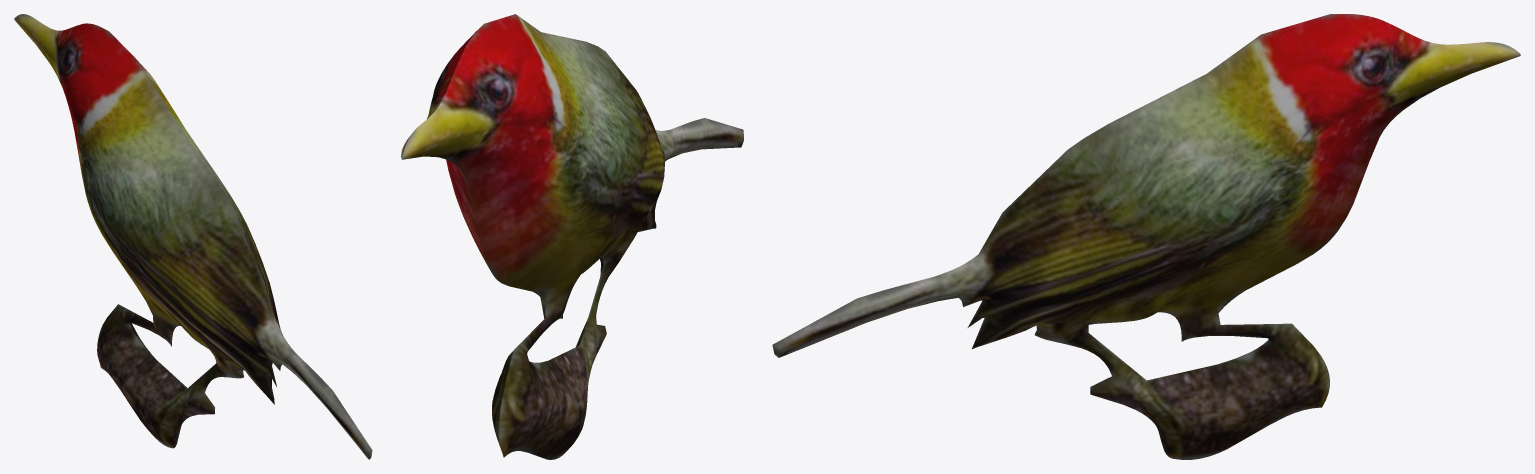
Rendered from cabezon.a.tete.rouge.mast.1g-removebg-preview.gltf.
The picture shows the model from 3 angles, left to right: view 1: azimuth 30°, elevation 25°; view 2: azimuth 150°, elevation 25°; view 3: azimuth 270°, elevation 25°; orthographic projection. The views are drawn at different scales.
Parts seen in each view (by area): view 1: node1; view 2: node1; view 3: node1.
Part boxes in pixels (<box>): node1: <box>14,14,372,459</box>; node1: <box>401,14,743,459</box>; node1: <box>772,14,1520,459</box>.
Size of the model in its own units: 0.2433 by 0.7892 by 1.2.
1 material, 1 textured.
